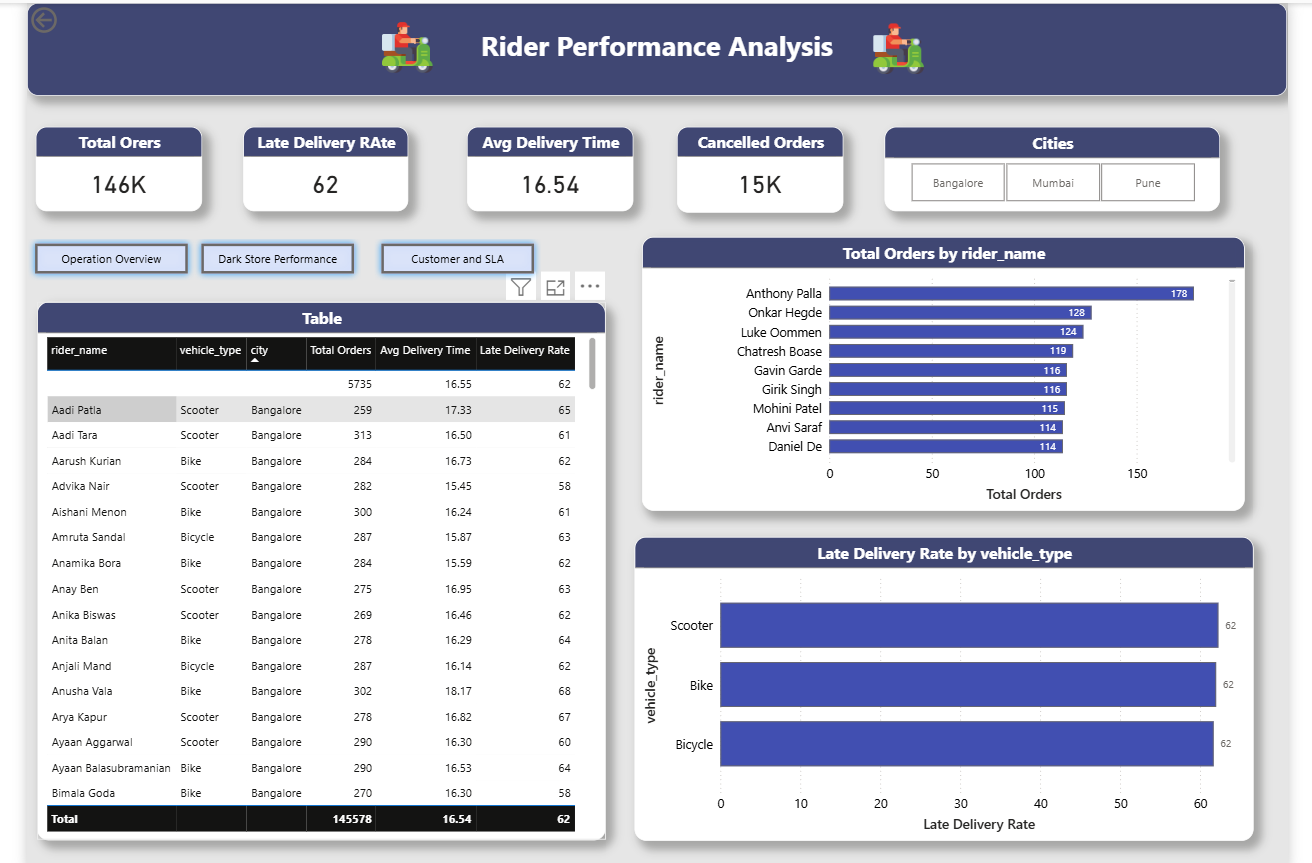

The dashboard page shown, as its layout file describes it:
{"tool":"powerbi","page":{"name":"Rider Performance","canvas":[1479,1019],"ordinal":3},"visuals":[{"type":"textbox","box":[0,0,1478.6,108.8],"z":0},{"type":"card","title":"Total Orers","fields":{"Values":["quickcommerce fact_orders.Total Orders"]},"box":[9.6,145.6,195.2,99.2],"z":1000},{"type":"card","title":"Late Delivery RAte","fields":{"Values":["quickcommerce fact_orders.Late Delivery Rate"]},"box":[254.4,145.6,193.6,99.2],"z":2000},{"type":"actionButton","box":[0,0,100,40],"z":3000},{"type":"card","title":"Avg Delivery Time","fields":{"Values":["quickcommerce fact_orders.Avg Delivery Time"]},"box":[516.9,145.6,195.2,99.2],"z":4000},{"type":"slicer","title":"Cities","fields":{"Values":["quickcommerce dim_dark_stores.city"]},"box":[1006.5,145.6,393.6,99.2],"z":5000},{"type":"clusteredBarChart","fields":{"Category":["quickcommerce dim_riders.rider_name"],"Y":["quickcommerce fact_orders.Total Orders"]},"box":[721.7,273.6,707.3,321.6],"z":6000},{"type":"clusteredBarChart","fields":{"Category":["quickcommerce dim_riders.vehicle_type"],"Y":["quickcommerce fact_orders.Late Delivery Rate"]},"box":[712.1,625.7,726.5,356.8],"z":7000},{"type":"card","title":"Cancelled Orders","fields":{"Values":["quickcommerce fact_orders.Cancelled Orders"]},"box":[763.3,145.6,195.2,100.8],"z":8000},{"type":"tableEx","title":"Table","fields":{"Values":["quickcommerce dim_riders.rider_name","quickcommerce dim_riders.vehicle_type","quickcommerce dim_riders.city","quickcommerce fact_orders.Total Orders","quickcommerce fact_orders.Avg Delivery Time","quickcommerce fact_orders.Late Delivery Rate"]},"box":[11.2,350.4,667.3,632.1],"z":9000},{"type":"actionButton","title":"Store PerFormance","box":[1.6,273.6,195.2,51.2],"z":10000},{"type":"actionButton","title":"Store PerFormance","box":[196.8,273.6,195.2,51.2],"z":11000},{"type":"actionButton","title":"Store PerFormance","box":[408.1,273.6,195.2,51.2],"z":12000},{"type":"image","box":[393.5,20.5,105.9,63.2],"z":12001},{"type":"image","box":[968.8,22.1,105.9,63.2],"z":12002}]}

Visuals, with their boxes on the page's 1479x1019 design canvas (x1, y1, x2, y2). These are canvas units, not pixel positions in the 1312x863 screenshot, which may show the page scaled, cropped or inside an application window:
textbox: region(0, 0, 1479, 109)
"Total Orers" card: region(10, 146, 205, 245)
"Late Delivery RAte" card: region(254, 146, 448, 245)
actionButton: region(0, 0, 100, 40)
"Avg Delivery Time" card: region(517, 146, 712, 245)
"Cities" slicer: region(1006, 146, 1400, 245)
clusteredBarChart - quickcommerce dim_riders.rider_name x quickcommerce fact_orders.Total Orders: region(722, 274, 1429, 595)
clusteredBarChart - quickcommerce dim_riders.vehicle_type x quickcommerce fact_orders.Late Delivery Rate: region(712, 626, 1439, 982)
"Cancelled Orders" card: region(763, 146, 958, 246)
"Table" tableEx: region(11, 350, 678, 982)
"Store PerFormance" actionButton: region(2, 274, 197, 325)
"Store PerFormance" actionButton: region(197, 274, 392, 325)
"Store PerFormance" actionButton: region(408, 274, 603, 325)
image: region(394, 20, 499, 84)
image: region(969, 22, 1075, 85)
